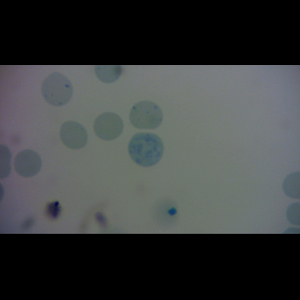aggregate reticulocyte: (127, 131, 165, 168)
erythrocyte: (92, 112, 125, 142), (12, 149, 43, 179), (59, 120, 89, 150)
punctate reticulocyte: (40, 71, 74, 107), (129, 100, 165, 131)
